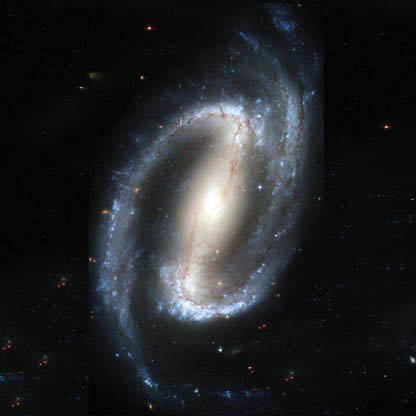NGC 1300: (94, 22, 320, 393)
